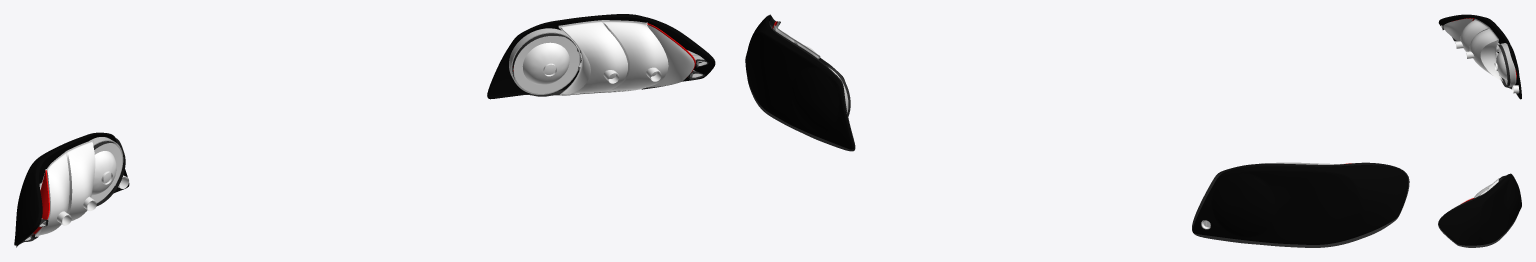
File: Taillights.fbx
3 views of the same model, side by side, from view 1: azimuth 30°, elevation 25°; view 2: azimuth 150°, elevation 25°; view 3: azimuth 270°, elevation 25° (orthographic). The views are drawn at different scales.
Parts seen in each view (by area): view 1: Taillights; view 2: Taillights; view 3: Taillights.
Boxes of the visible parts, x1,y1,x2,y2 form: Taillights: (14,14,715,247); Taillights: (745,14,1409,247); Taillights: (1438,14,1521,247).
Size of the model in its own units: 1999 by 228 by 344.
